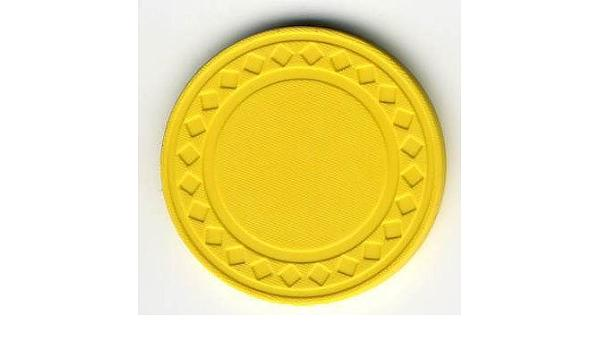chip-yellow: (162, 26, 445, 303)
